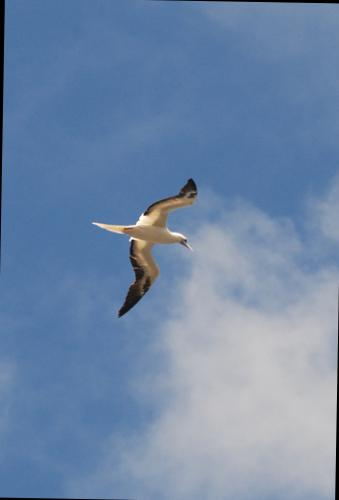bird: (74, 154, 208, 328)
